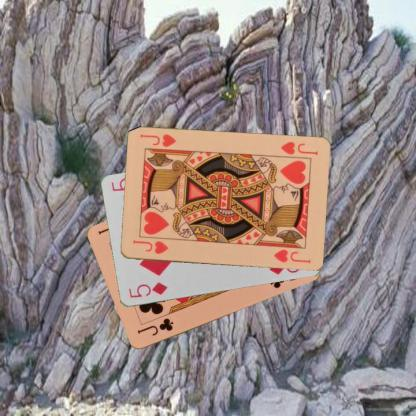5d: (126, 280, 168, 299)
Jc: (135, 316, 175, 338)
Jh: (274, 139, 318, 161), (130, 237, 169, 255)
